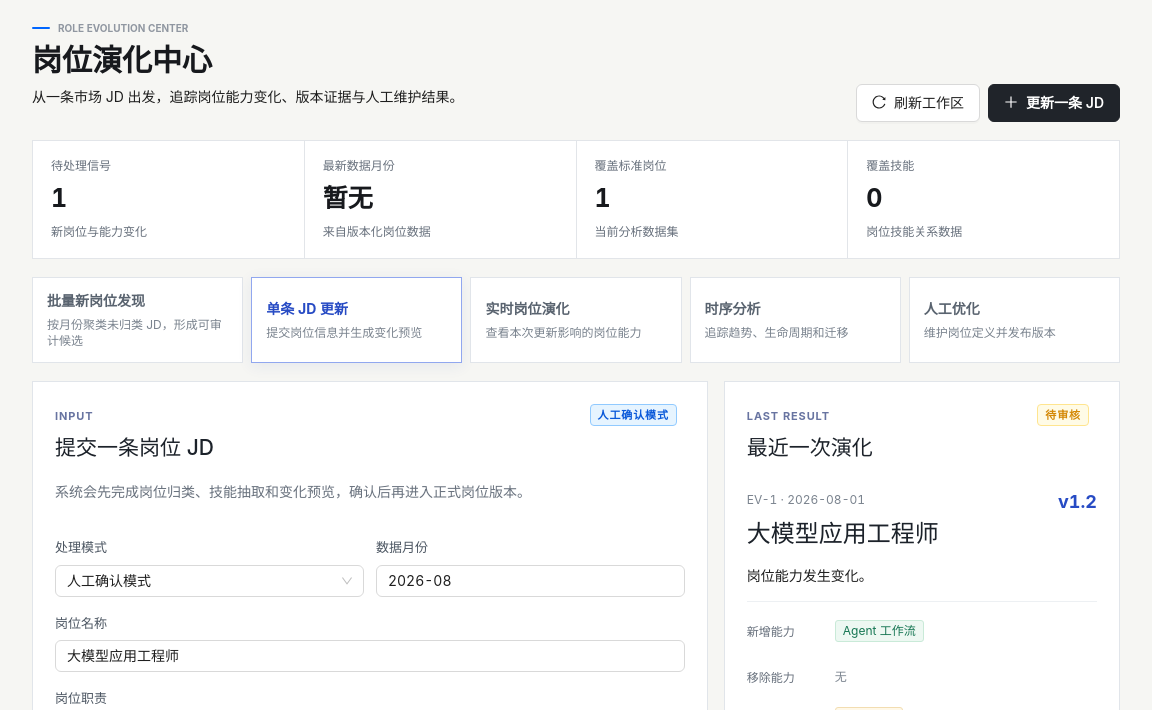
RoleEvolutionCenterPage › shows a real monthly snapshot even when no new-role candidate is pending
expect the heading "岗位演化中心" is shown: met, box [32,42,212,78]
Click the button "批量新岗位发现 按月份聚类未归类 JD，形成可审计候选".
click(138, 320)  # box [32,277,243,363]
(page scrolled)
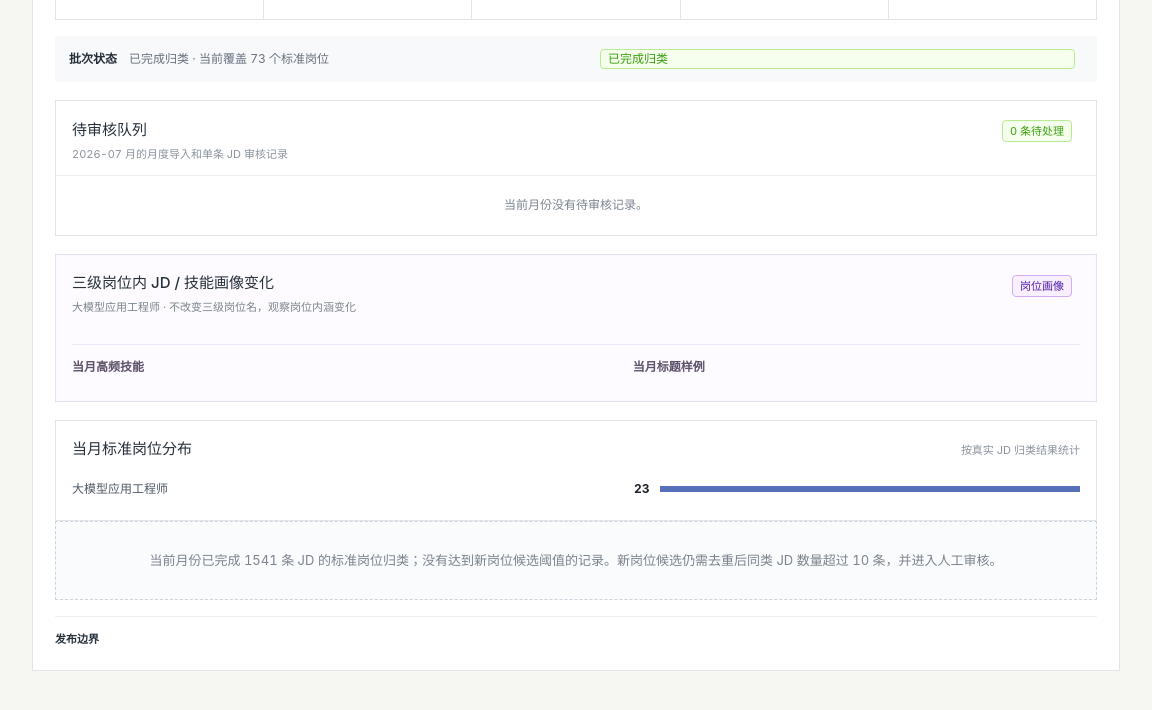
expect the heading "当月标准岗位分布" is shown: met, box [72,437,192,460]
expect the text "已完成 1541 条 JD 的标准岗位归类" is shown: met, box [55,521,1097,600]
